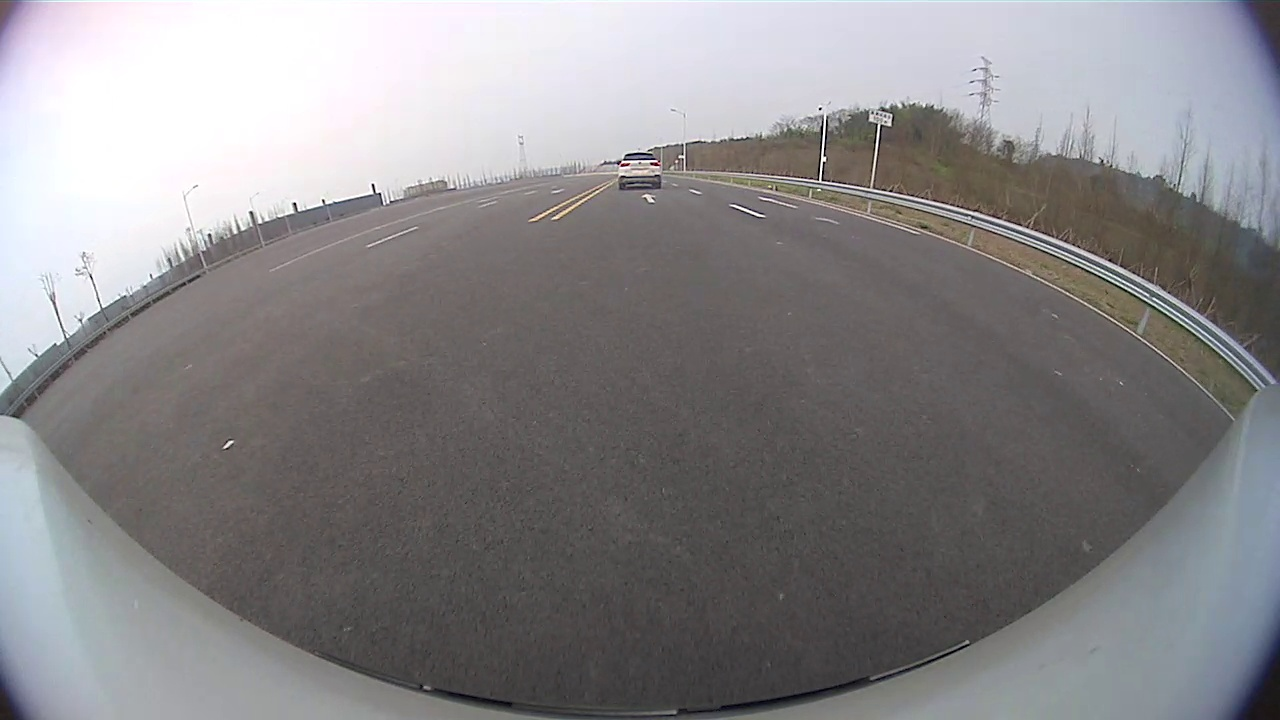car: (616, 152, 663, 191)
